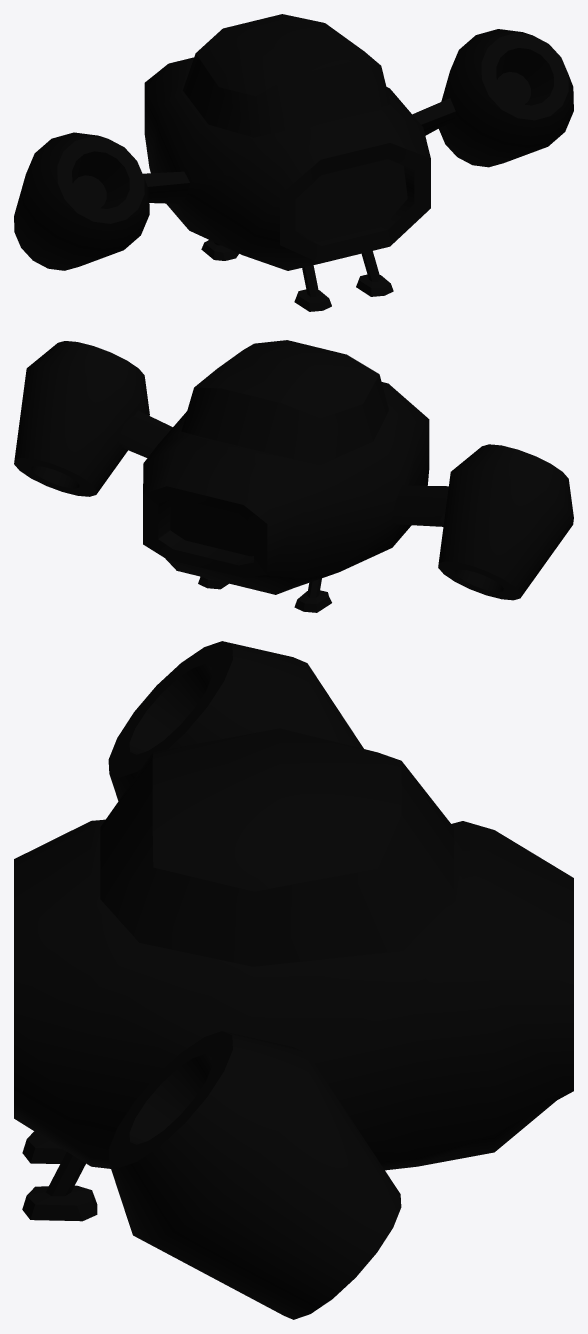
The model's file is Spaceship.fbx.
The picture shows the model from 3 angles, top to bottom: view 1: azimuth 30°, elevation 25°; view 2: azimuth 150°, elevation 25°; view 3: azimuth 270°, elevation 25°; orthographic projection. The views are drawn at different scales.
Visible parts, largest first — view 1: Spaceship; view 2: Spaceship; view 3: Spaceship.
Boxes of the visible parts, x1=… form: Spaceship: x1=14, y1=14, x2=573, y2=311; Spaceship: x1=14, y1=340, x2=573, y2=612; Spaceship: x1=14, y1=641, x2=573, y2=1319.
Size of the model in its own units: 1197 by 468 by 571.
